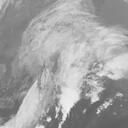cyclone: (40, 44, 95, 95)
